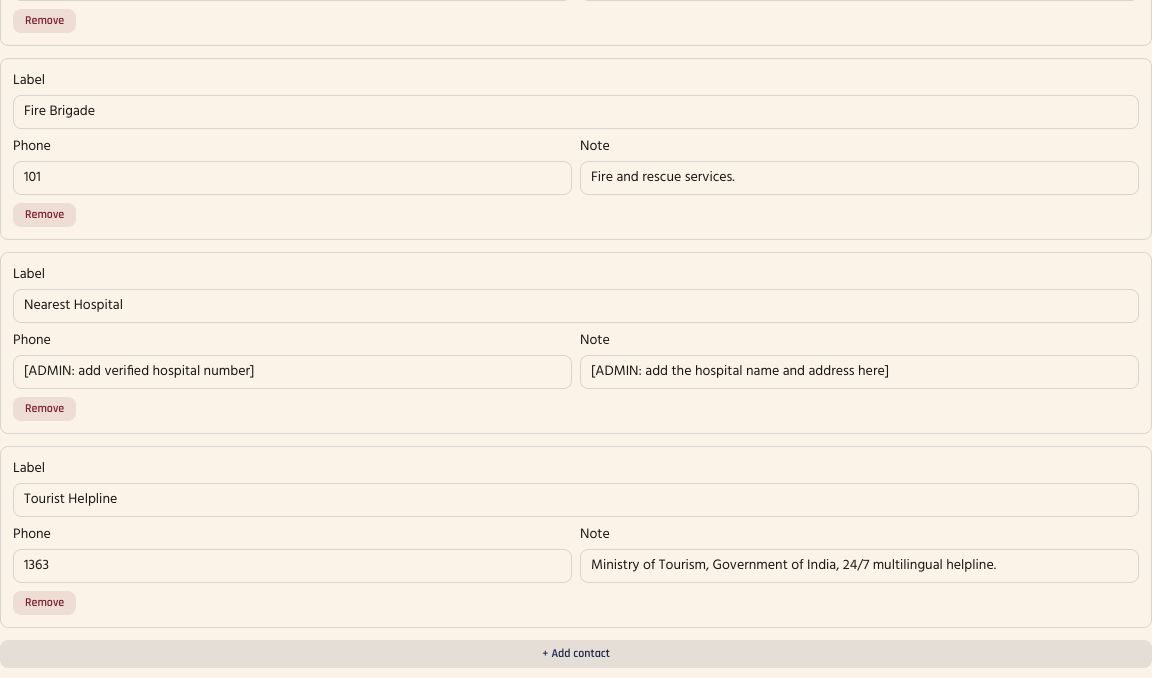
Scenario: ContactsEditor › adds a new blank contact
The width and height of the screenshot is (1152, 678).
(page scrolled)
Click the button "+ Add contact" at {"x": 576, "y": 654}, box left=0, top=640, right=1151, bottom=668
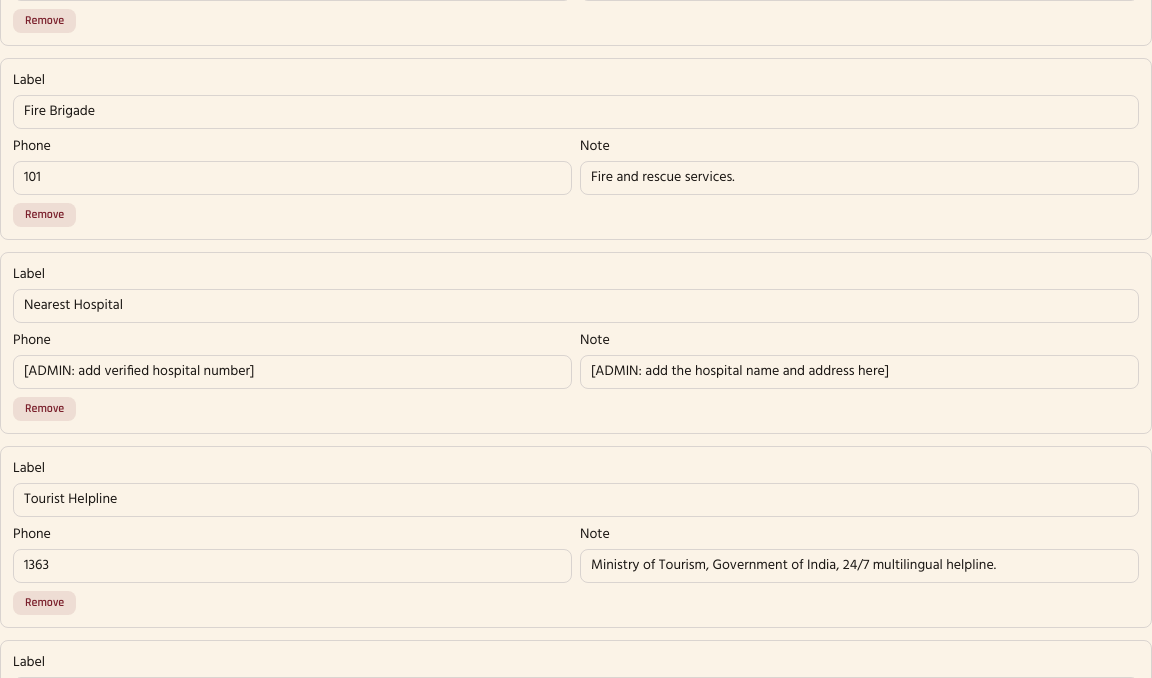
Expected: the text "Remove" is shown 7 times
